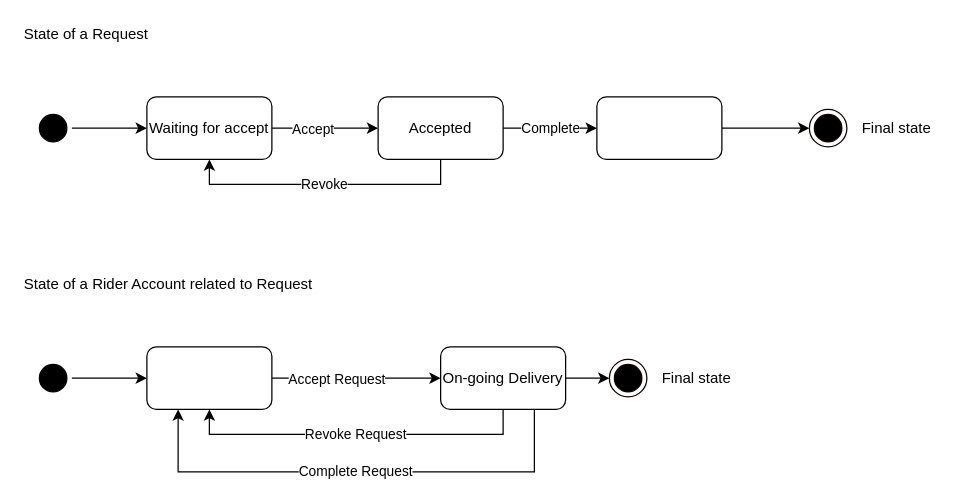
The diagram is 955 pixels wide and 504 high, and some of its shapes have lost their labels. The centre of each missing label's shape, as x and y in pixels:
"Active" belongs at (209,377).
"Completed" belongs at (659,127).
